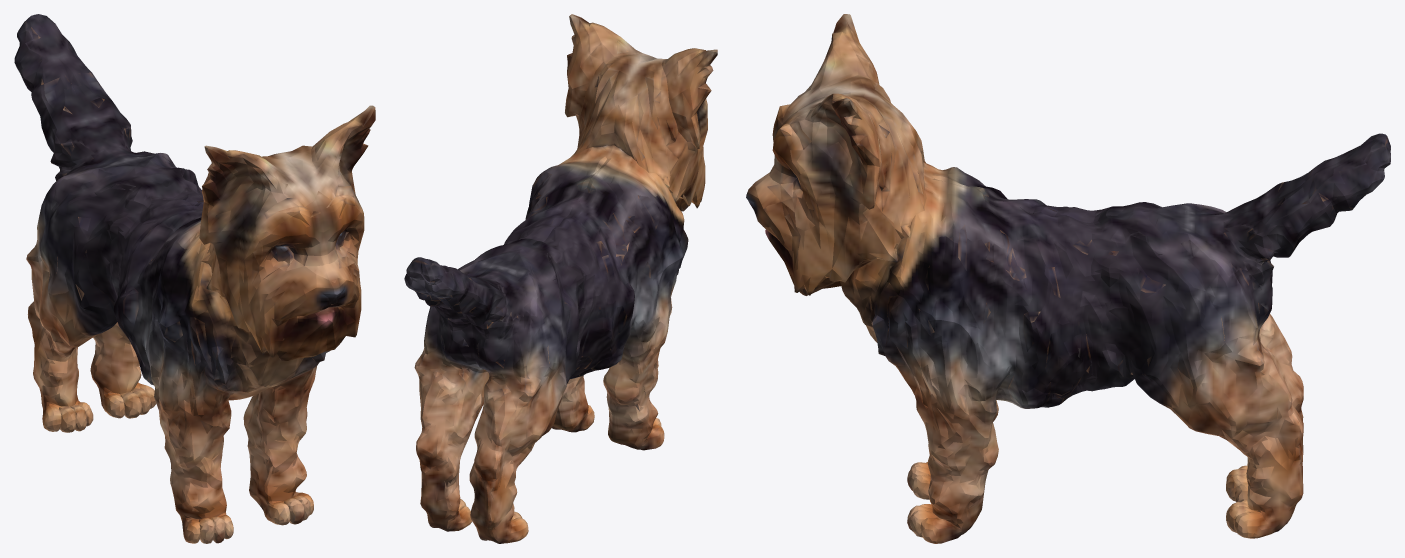
The model's file is yorkshireterrier-opt.glb.
The picture shows the model from 3 angles, left to right: view 1: azimuth 30°, elevation 25°; view 2: azimuth 150°, elevation 25°; view 3: azimuth 270°, elevation 25°; orthographic projection. The views are drawn at different scales.
Visible parts, largest first — view 1: Node1; view 2: Node1; view 3: Node1.
Boxes of the visible parts, bbox=[...] form: Node1: bbox=[14, 14, 375, 543]; Node1: bbox=[404, 14, 717, 543]; Node1: bbox=[746, 14, 1390, 543].
Bounding box in the file's own units: 2.16 × 5.07 × 6.48.
1 material, 1 textured.
